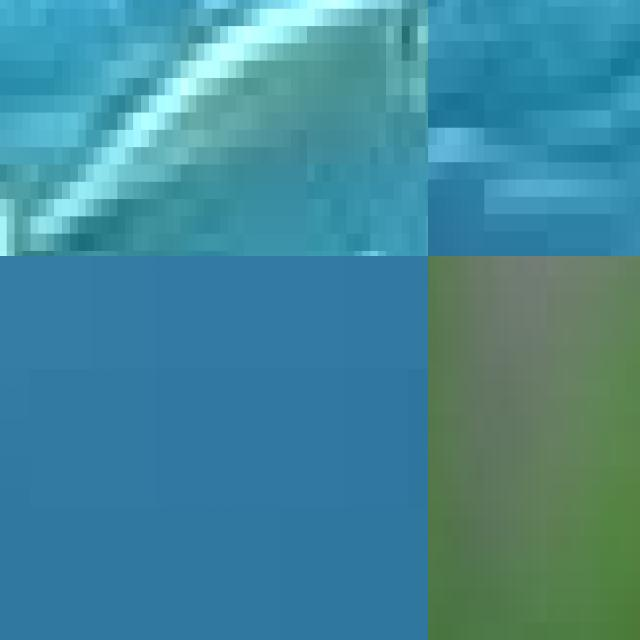fish: (0, 0, 428, 256), (428, 256, 640, 640), (0, 369, 76, 640)
